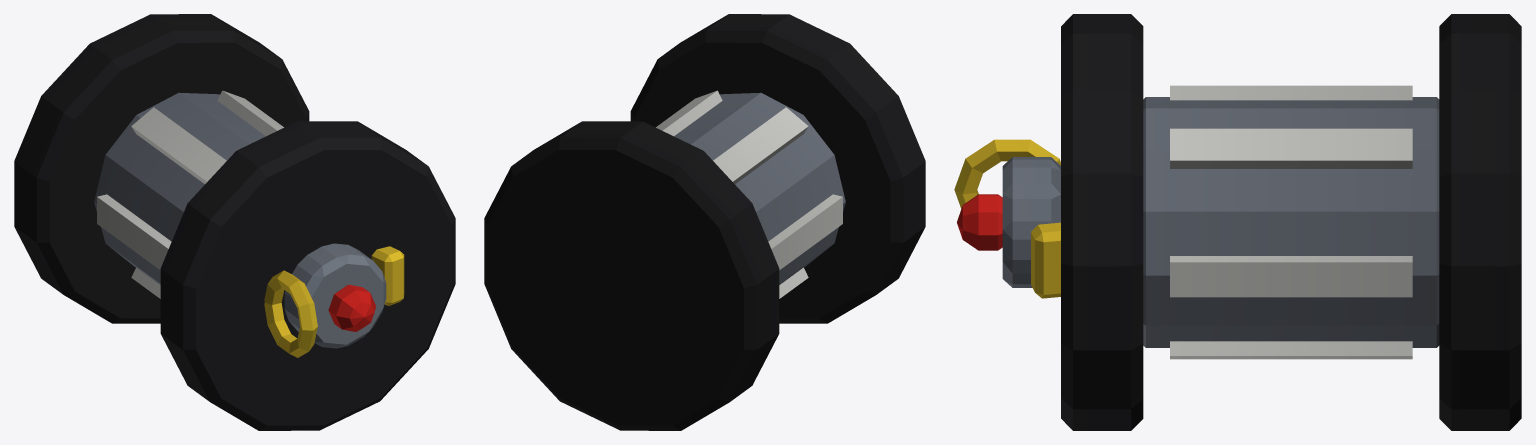
Rendered from flash.glb.
3 renders of one model, left to right at view 1: azimuth 30°, elevation 25°; view 2: azimuth 150°, elevation 25°; view 3: azimuth 270°, elevation 25°, orthographic. The views are drawn at different scales.
Parts seen in each view (by area): view 1: flash; view 2: flash; view 3: flash.
Part boxes in pixels (<box>): flash: <box>14,14,455,430</box>; flash: <box>484,14,925,430</box>; flash: <box>954,14,1521,430</box>.
Size of the model in its own units: 0.1677 by 0.172 by 0.234.
